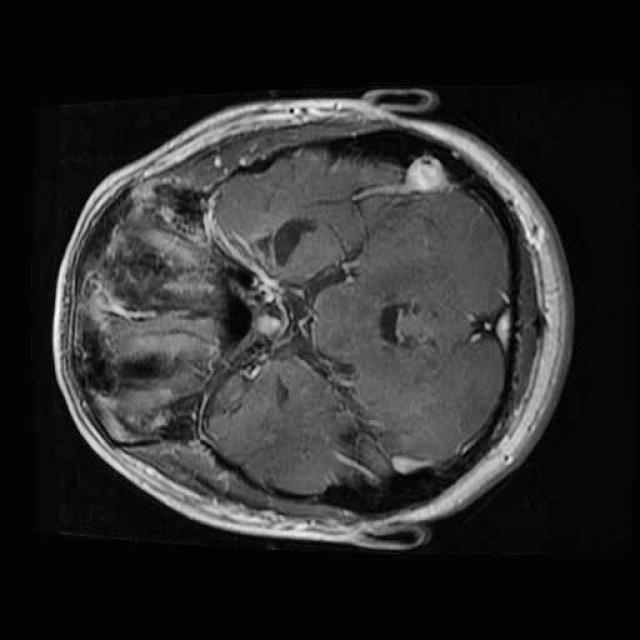Non-Tumor: (255, 206, 334, 270)
